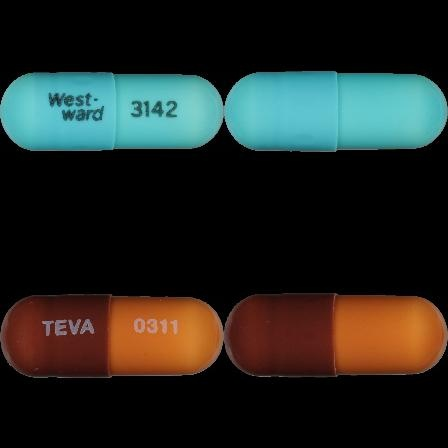43063-019: (0, 0, 224, 224)
